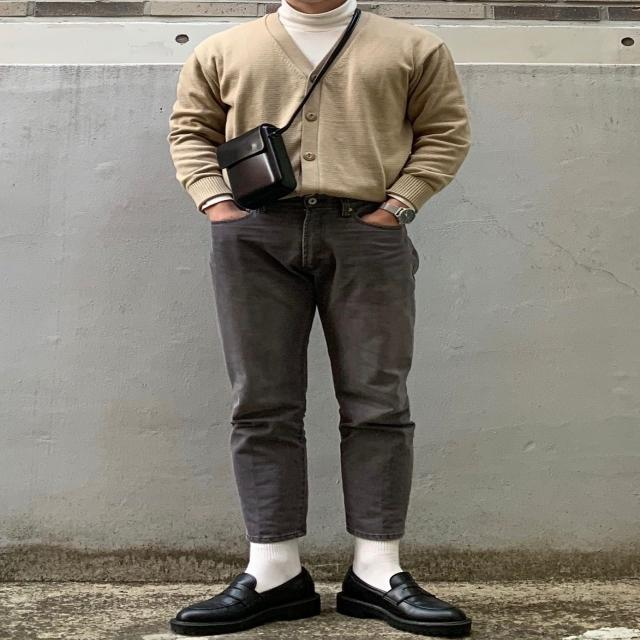cardigan: (166, 5, 470, 216)
cottonpants: (208, 191, 422, 545)
